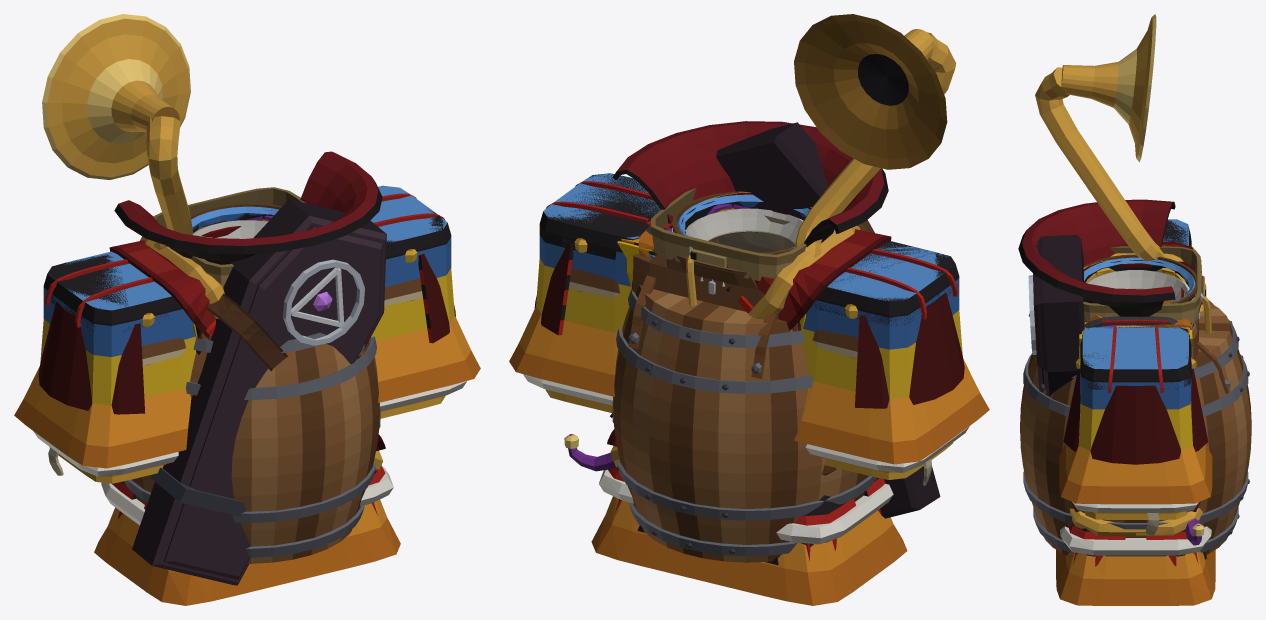
The model's file is kit_coats.glb.
The picture shows the model from 3 angles, left to right: view 1: azimuth 30°, elevation 25°; view 2: azimuth 150°, elevation 25°; view 3: azimuth 270°, elevation 25°; orthographic projection. The views are drawn at different scales.
Parts seen in each view (by area): view 1: VW_HexwardPall, VW_OgresGut, VW_CrescendoSash, VW_BalancedScale, VW_EchoBracer__Sleeve_M, VW_BalancedScale__Sleeve_M, VW_BloodlettingJar, VW_GlacierHeart__Sleeve_M, VW_BalancedScale__Sleeve, VW_GlacierHeart__Sleeve, VW_ToadSkinGloves__Sleeve_M, VW_EchoBracer__Sleeve (+7 smaller); view 2: VW_OgresGut, VW_CrescendoSash, VW_BalancedScale, VW_EchoBracer__Sleeve_M, VW_BalancedScale__Sleeve_M, VW_BloodlettingJar, VW_HexwardPall, VW_GlacierHeart__Sleeve_M, VW_EchoBracer__Sleeve, VW_BalancedScale__Sleeve, VW_GlacierHeart__Sleeve, VW_SmoulderHeart (+13 smaller); view 3: VW_OgresGut, VW_CrescendoSash, VW_EchoBracer__Sleeve, VW_BalancedScale, VW_BloodlettingJar, VW_BalancedScale__Sleeve, VW_GlacierHeart__Sleeve, VW_HexwardPall, VW_GlacierHeart, VW_SmoulderHeart, VW_DoubleTime, VW_ToadSkinGloves__Sleeve (+8 smaller).
Part boxes in pixels (x1,y1,x2,y2): VW_HexwardPall: (132, 199, 386, 585); VW_OgresGut: (124, 332, 380, 563); VW_CrescendoSash: (42, 14, 382, 470); VW_BalancedScale: (94, 240, 400, 605); VW_EchoBracer__Sleeve_M: (38, 253, 182, 414); VW_BalancedScale__Sleeve_M: (14, 366, 191, 468); VW_BloodlettingJar: (114, 151, 382, 502); VW_GlacierHeart__Sleeve_M: (33, 251, 195, 476); VW_BalancedScale__Sleeve: (375, 315, 480, 402); VW_GlacierHeart__Sleeve: (370, 185, 466, 411); VW_ToadSkinGloves__Sleeve_M: (40, 319, 196, 405); VW_EchoBracer__Sleeve: (374, 186, 455, 343); VW_OgresGut: (612, 275, 876, 562); VW_CrescendoSash: (610, 14, 956, 467); VW_BalancedScale: (591, 229, 907, 605); VW_EchoBracer__Sleeve_M: (810, 241, 964, 408); VW_BalancedScale__Sleeve_M: (793, 359, 989, 464); VW_BloodlettingJar: (612, 121, 888, 546); VW_HexwardPall: (716, 122, 940, 518); VW_GlacierHeart__Sleeve_M: (803, 243, 969, 472); VW_EchoBracer__Sleeve: (534, 173, 660, 335); VW_BalancedScale__Sleeve: (509, 306, 618, 396); VW_GlacierHeart__Sleeve: (523, 173, 660, 405); VW_SmoulderHeart: (651, 187, 806, 280); VW_OgresGut: (1020, 300, 1251, 555); VW_CrescendoSash: (1035, 14, 1211, 537); VW_EchoBracer__Sleeve: (1063, 326, 1208, 464); VW_BalancedScale: (1056, 242, 1215, 605); VW_BloodlettingJar: (1018, 199, 1194, 556); VW_BalancedScale__Sleeve: (1059, 444, 1212, 504); VW_GlacierHeart__Sleeve: (1072, 327, 1199, 512); VW_HexwardPall: (1028, 234, 1084, 396); VW_GlacierHeart: (1060, 257, 1211, 555); VW_SmoulderHeart: (1083, 246, 1205, 323); VW_DoubleTime: (1073, 259, 1206, 566); VW_ToadSkinGloves__Sleeve: (1078, 401, 1192, 450).
Bounding box in the file's own units: 4.84 × 6.4 × 2.81.
